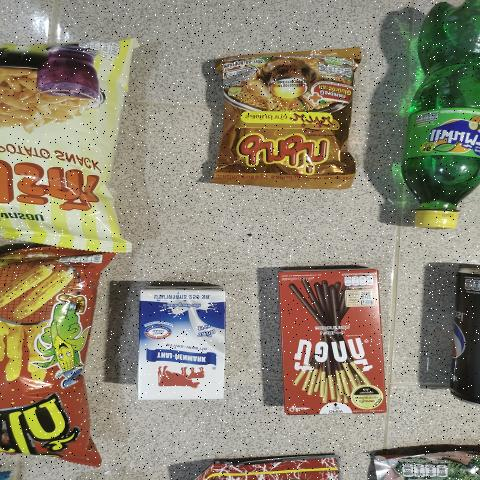fanta_green: (396, 0, 480, 227)
mama: (211, 56, 362, 177)
paprika: (0, 42, 122, 246)
pokki: (281, 260, 385, 412)
thai_denmark: (134, 285, 226, 402)
